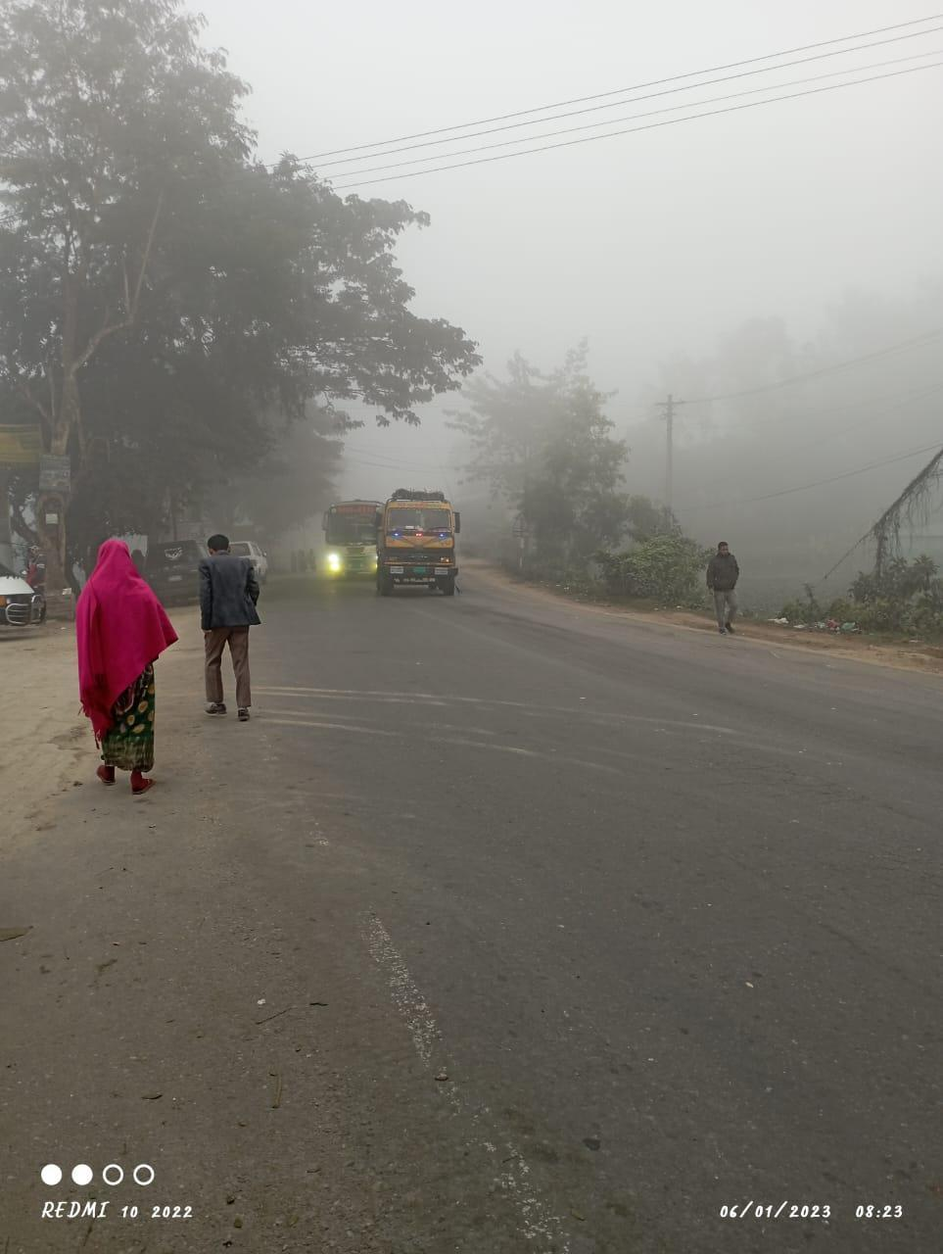Bus: (314, 498, 389, 579)
Car: (142, 534, 216, 601), (220, 532, 278, 584)
Truck: (373, 489, 468, 600)
